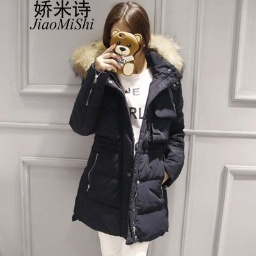face: (102, 2, 155, 68)
